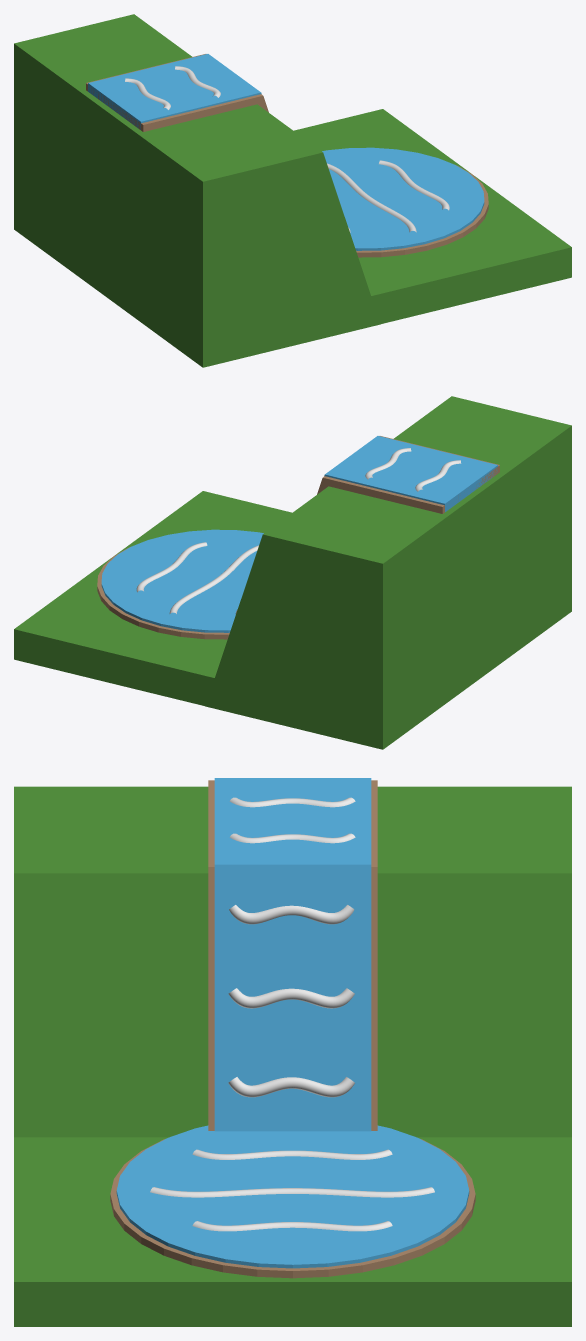
3 renders of one model, top to bottom at view 1: azimuth 30°, elevation 25°; view 2: azimuth 150°, elevation 25°; view 3: azimuth 270°, elevation 25°, orthographic. The views are drawn at different scales.
Visible parts, largest first — view 1: Cube, Cube.001, Cylinder, Cube.002, Cube.003, Cylinder.001, NurbsPath.007, NurbsPath.008; view 2: Cube, Cube.001, Cylinder, Cube.002, Cube.003, Cylinder.001, NurbsPath.007, NurbsPath.008; view 3: Cube, Cube.001, Cube.002, Cylinder, Cube.003, Cylinder.001, NurbsPath.007, NurbsPath.005, NurbsPath.004, NurbsPath.003, NurbsPath.008, NurbsPath.006 (+2 smaller).
Part boxes in pixels (x1,y1,x2,y2): Cube: (14, 14, 380, 367); Cube.001: (290, 109, 571, 344); Cylinder: (322, 147, 484, 250); Cube.002: (88, 54, 261, 129); Cube.003: (86, 54, 268, 131); Cylinder.001: (356, 165, 488, 257); NurbsPath.007: (327, 163, 416, 232); NurbsPath.008: (379, 160, 449, 210); Cube: (205, 396, 571, 749); Cube.001: (14, 491, 295, 727); Cylinder: (101, 529, 263, 632); Cube.002: (324, 436, 497, 511); Cube.003: (317, 436, 499, 513); Cylinder.001: (97, 547, 229, 639); NurbsPath.007: (169, 545, 258, 613); NurbsPath.008: (136, 542, 207, 592); Cube: (14, 786, 571, 1137); Cube.001: (14, 1137, 571, 1326); Cube.002: (214, 778, 371, 1131); Cylinder: (116, 1125, 469, 1268); Cube.003: (208, 780, 377, 1130); Cylinder.001: (110, 1139, 475, 1278); NurbsPath.007: (150, 1187, 434, 1197); NurbsPath.005: (228, 1077, 354, 1097); NurbsPath.004: (228, 988, 354, 1008); NurbsPath.003: (229, 905, 354, 924); NurbsPath.008: (192, 1221, 392, 1231); NurbsPath.006: (192, 1149, 392, 1159).
Bounding box in the file's own units: 4.15 × 2.11 × 3.68.
